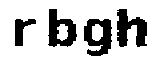b: (46, 6, 78, 53)
g: (82, 18, 114, 60)
h: (115, 6, 149, 51)
r: (11, 16, 40, 50)
